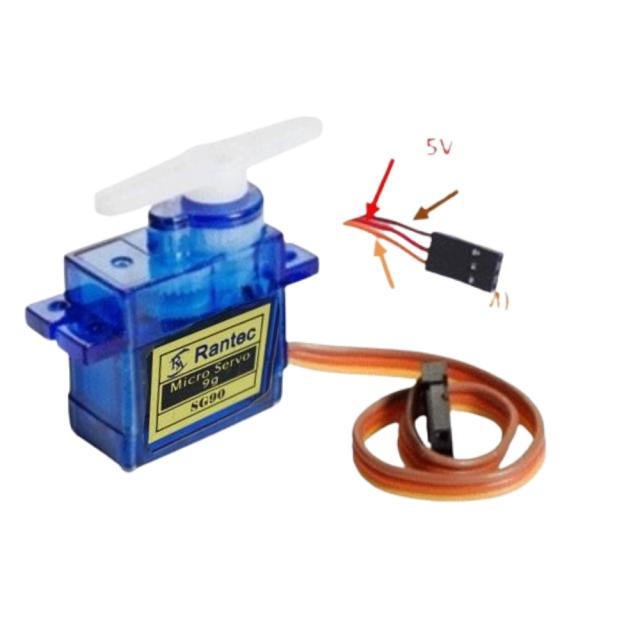servomotor: (34, 145, 558, 518)
